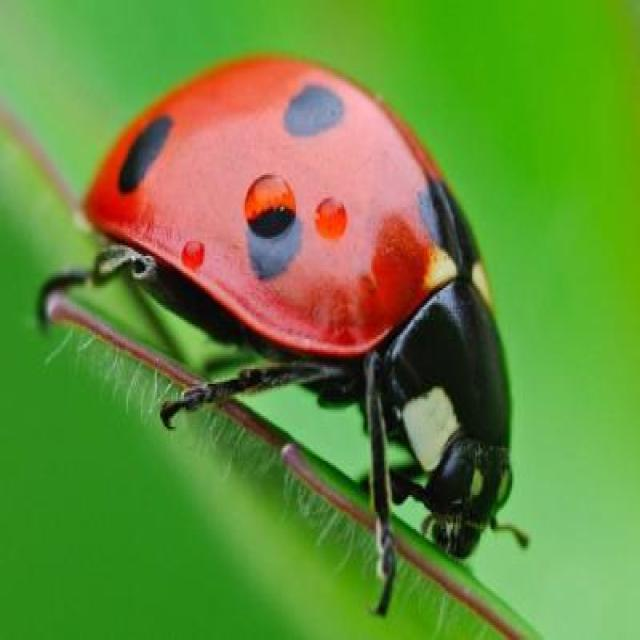antennae: (421, 450, 532, 576)
body: (90, 56, 513, 553)
insect: (82, 48, 532, 621)
legs: (50, 239, 407, 614)
mouthpart: (428, 452, 498, 572)
wings: (88, 55, 493, 354)
